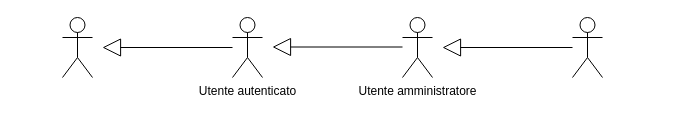
This 681x116 diagram has some shape labels left out. Each missing label, with the box of its shape:
Utente non autenticato: (62, 16, 92, 78)
Utente super-amministratore: (572, 16, 602, 78)
